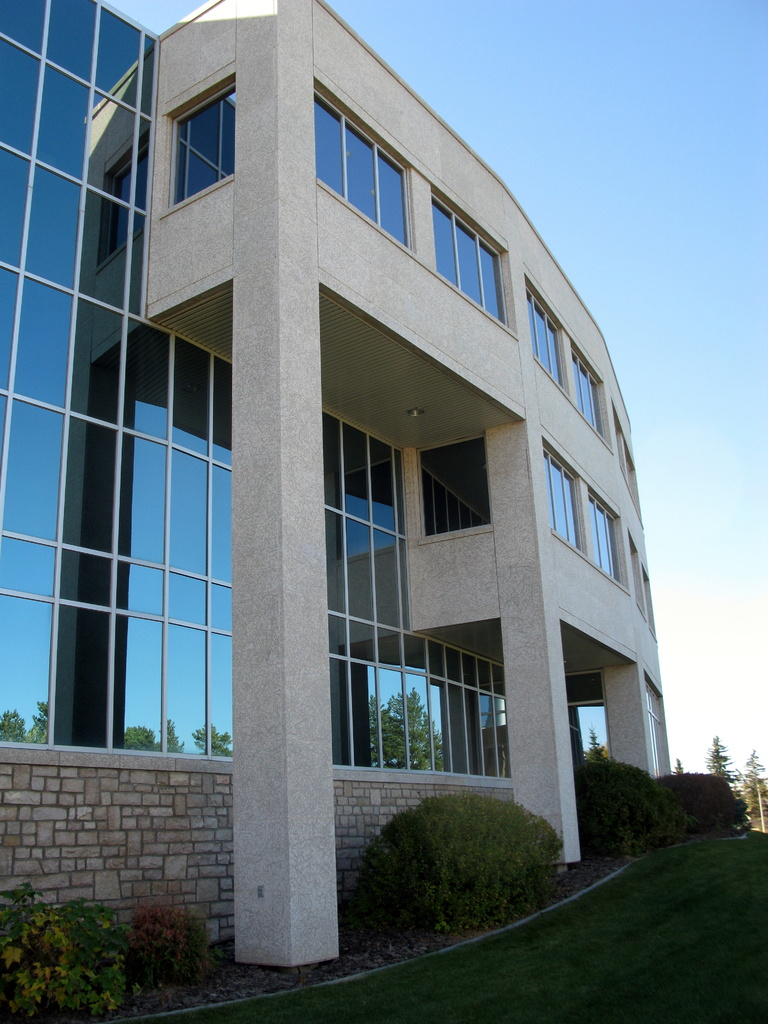Window: (310, 84, 410, 251), (541, 449, 632, 590), (524, 277, 607, 431), (427, 182, 509, 324), (168, 76, 240, 200), (415, 436, 500, 541)
